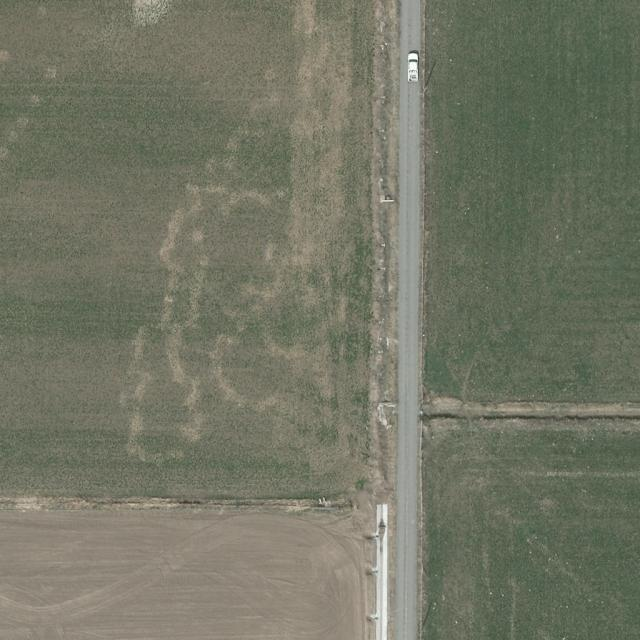vehicle: (407, 52, 419, 82)
